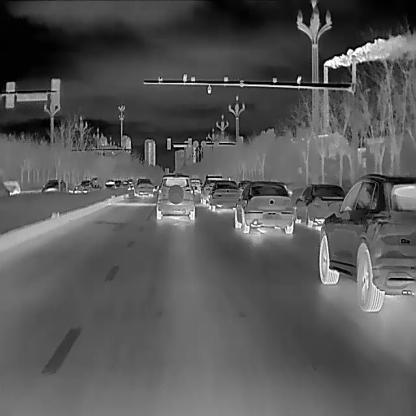car: (318, 171, 415, 312), (234, 177, 295, 233), (293, 182, 345, 227), (154, 172, 196, 221), (208, 178, 241, 210), (199, 173, 223, 204), (133, 176, 155, 198), (41, 176, 67, 194), (2, 178, 22, 196)
